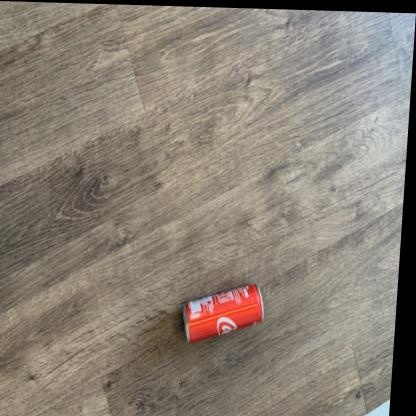trash: (182, 284, 262, 342)
